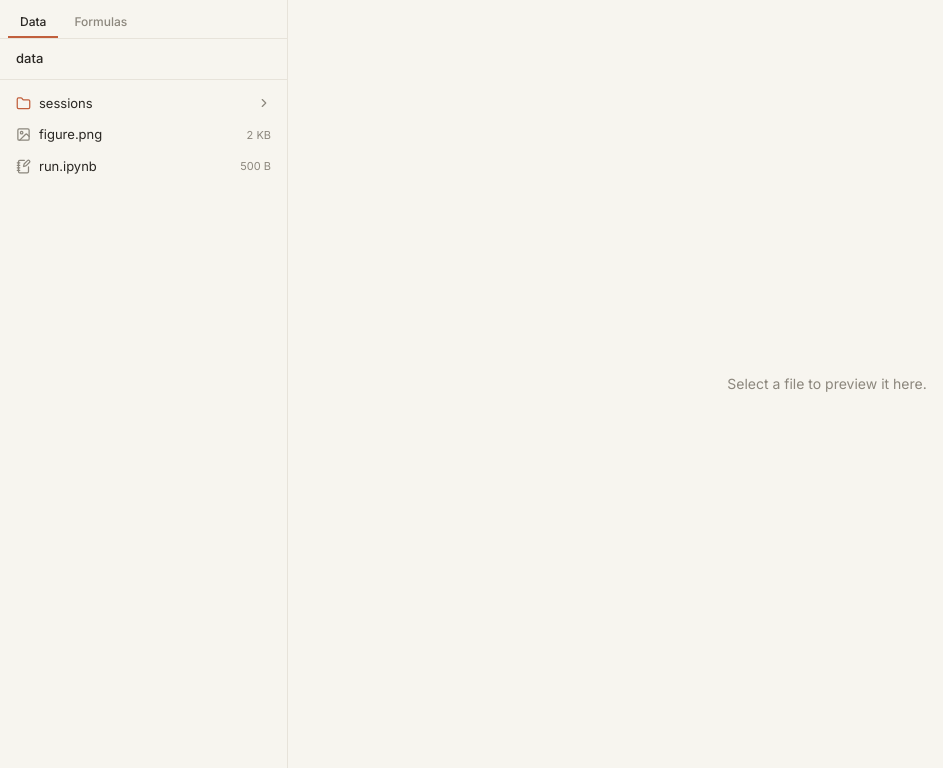
Test: FilesPage › navigates into a folder and back via the breadcrumb
Click the button "sessions" at (66, 102), box [8,88,279,119]
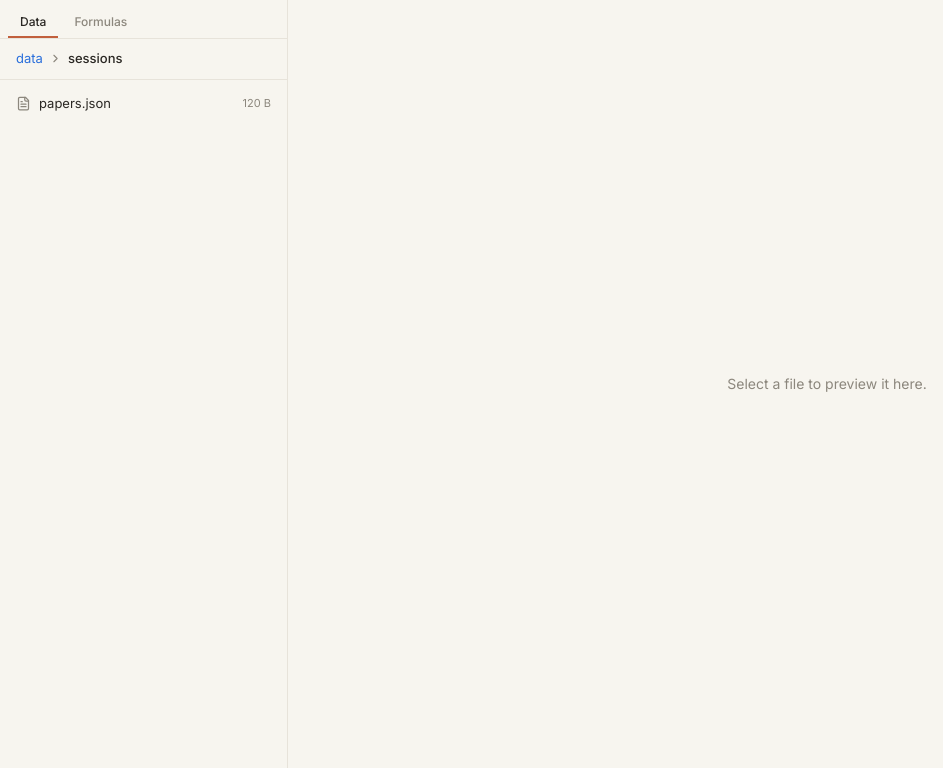
Check: the text "papers.json" is shown, box [39,94,111,110]
Click the button "data" at (29, 59), box [12,49,47,68]
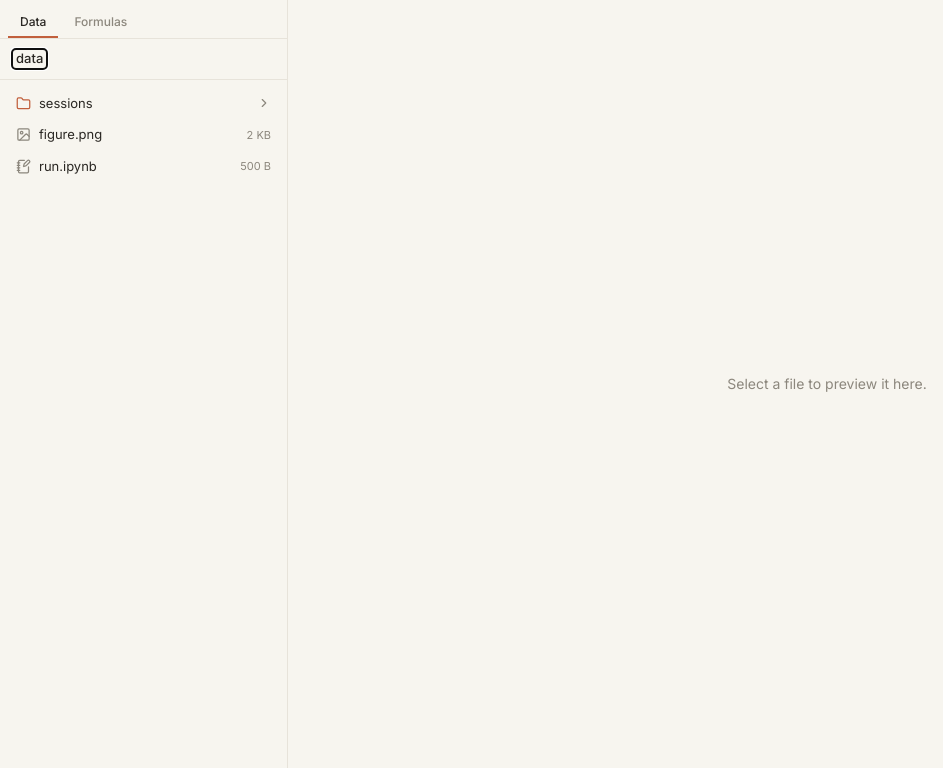
Check: the text "figure.png" is shown, box [39,126,102,142]
